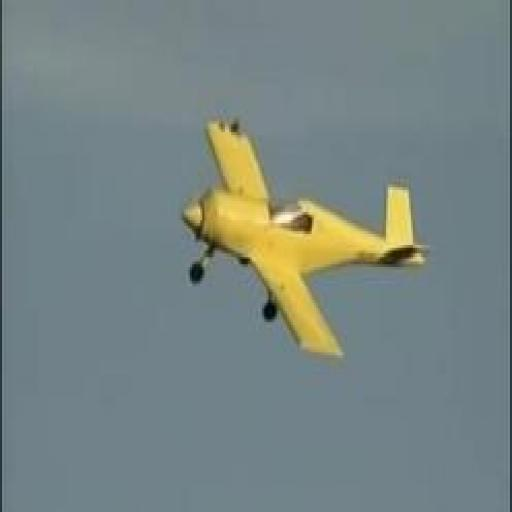aircraft: (179, 120, 432, 358)
